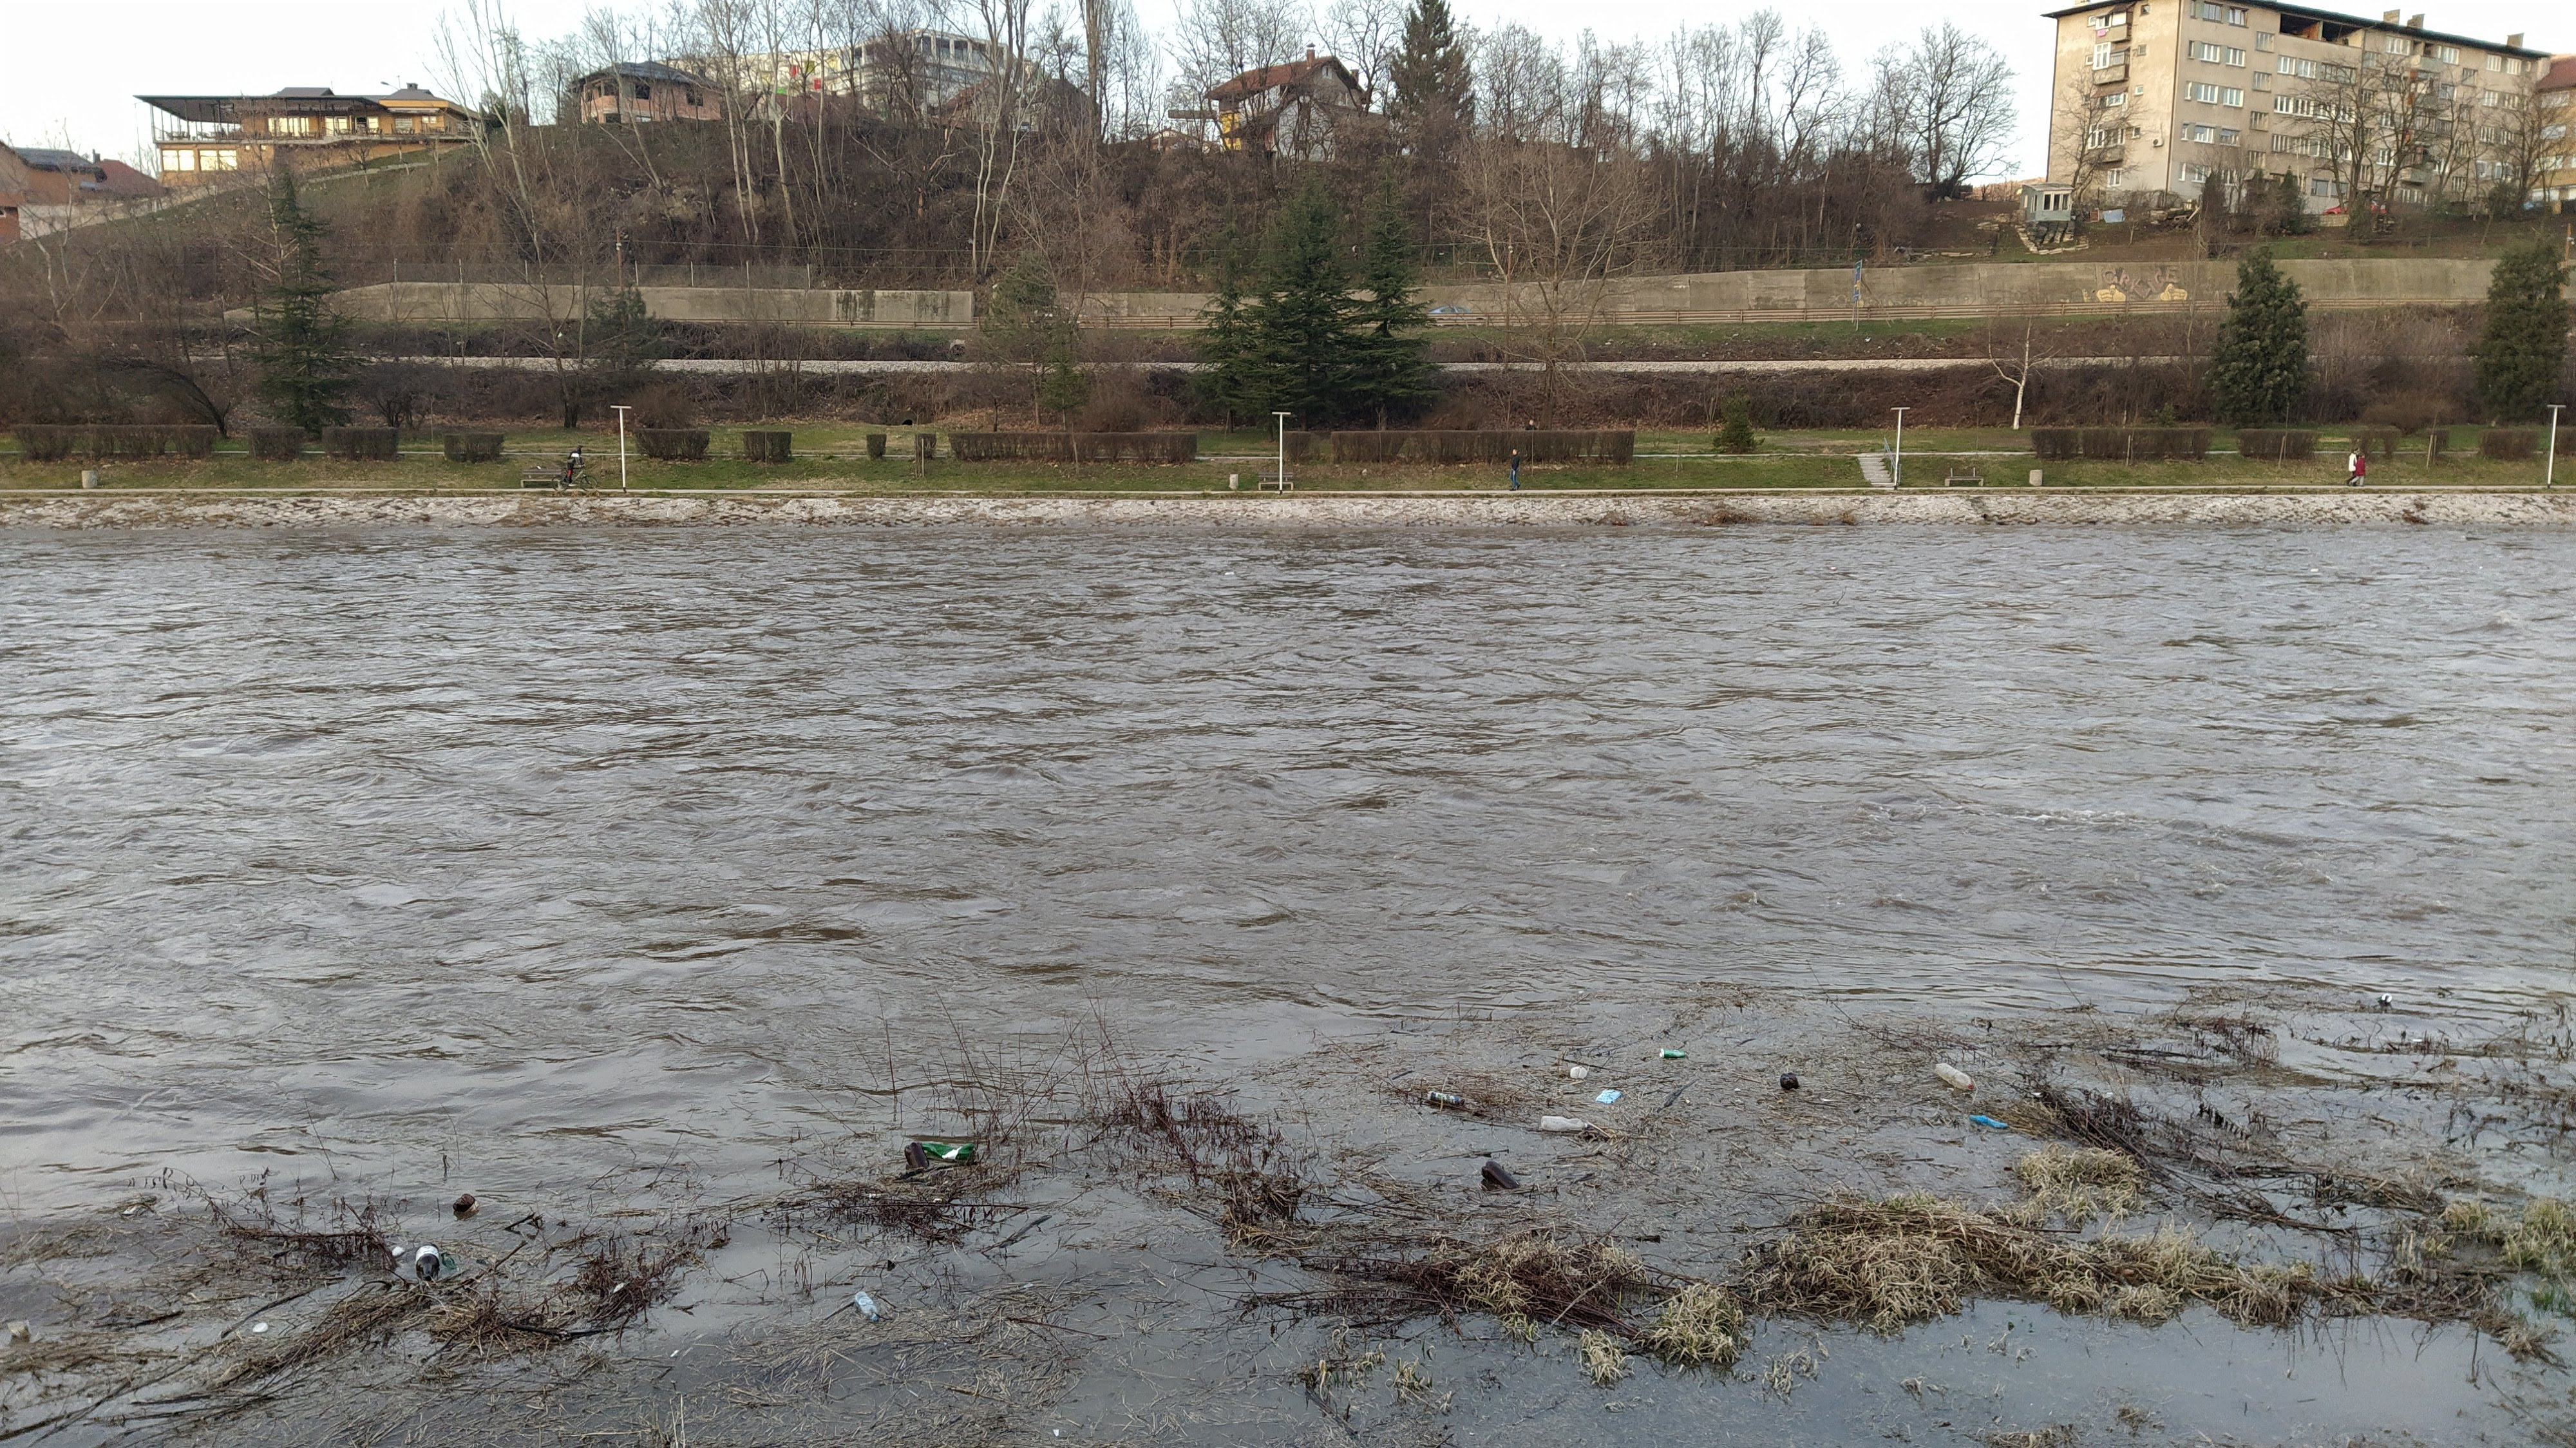Plastic Bottle: (414, 1243, 441, 1282), (920, 1142, 973, 1161), (1934, 1062, 1973, 1089), (1481, 1161, 1518, 1188), (855, 1292, 879, 1321), (1539, 1117, 1589, 1131), (904, 1142, 929, 1167), (1969, 1113, 2006, 1129), (451, 1195, 479, 1213), (1428, 1090, 1463, 1105), (7, 1317, 30, 1338), (1780, 1071, 1799, 1090), (1660, 1048, 1686, 1059), (442, 1252, 456, 1269), (1569, 1066, 1587, 1078), (2378, 993, 2392, 1004), (1224, 572, 1233, 575), (2311, 568, 2318, 572)
